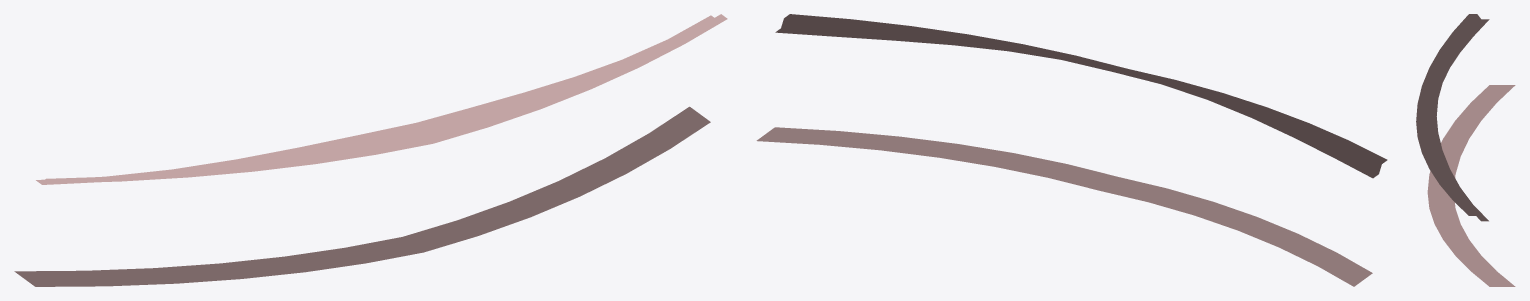
Rendered from slight.glb.
3 views of the same model, side by side, from view 1: azimuth 30°, elevation 25°; view 2: azimuth 150°, elevation 25°; view 3: azimuth 270°, elevation 25° (orthographic). The views are drawn at different scales.
Visible parts, largest first — view 1: mouths_slight; view 2: mouths_slight; view 3: mouths_slight.
Part boxes in pixels (left/top/right/bottom): mouths_slight: left=14, top=14, right=727, bottom=286; mouths_slight: left=756, top=14, right=1387, bottom=286; mouths_slight: left=1416, top=14, right=1515, bottom=286.
Bounding box in the file's own units: 0.52 × 0.093 × 0.1085.
